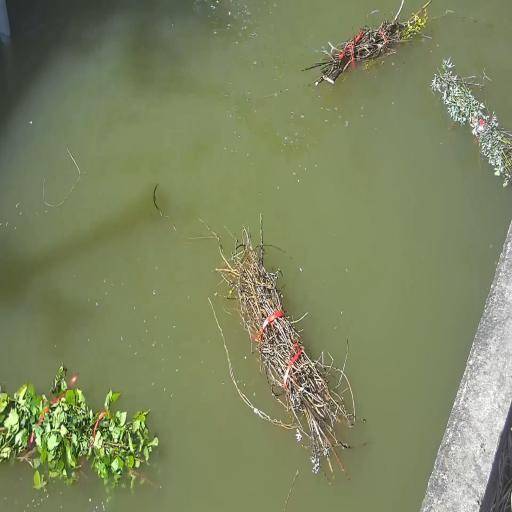twig: (216, 228, 355, 473), (29, 388, 158, 481), (430, 60, 512, 186), (312, 14, 426, 84), (0, 384, 32, 461)
